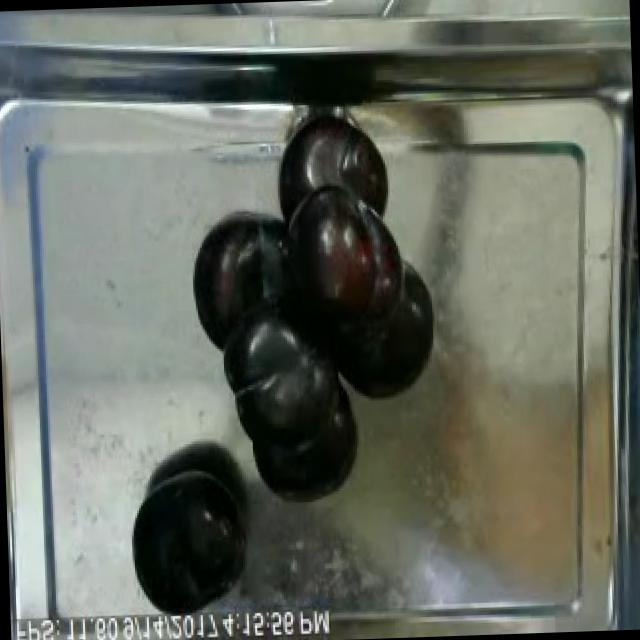Fruit: (123, 456, 258, 620)
